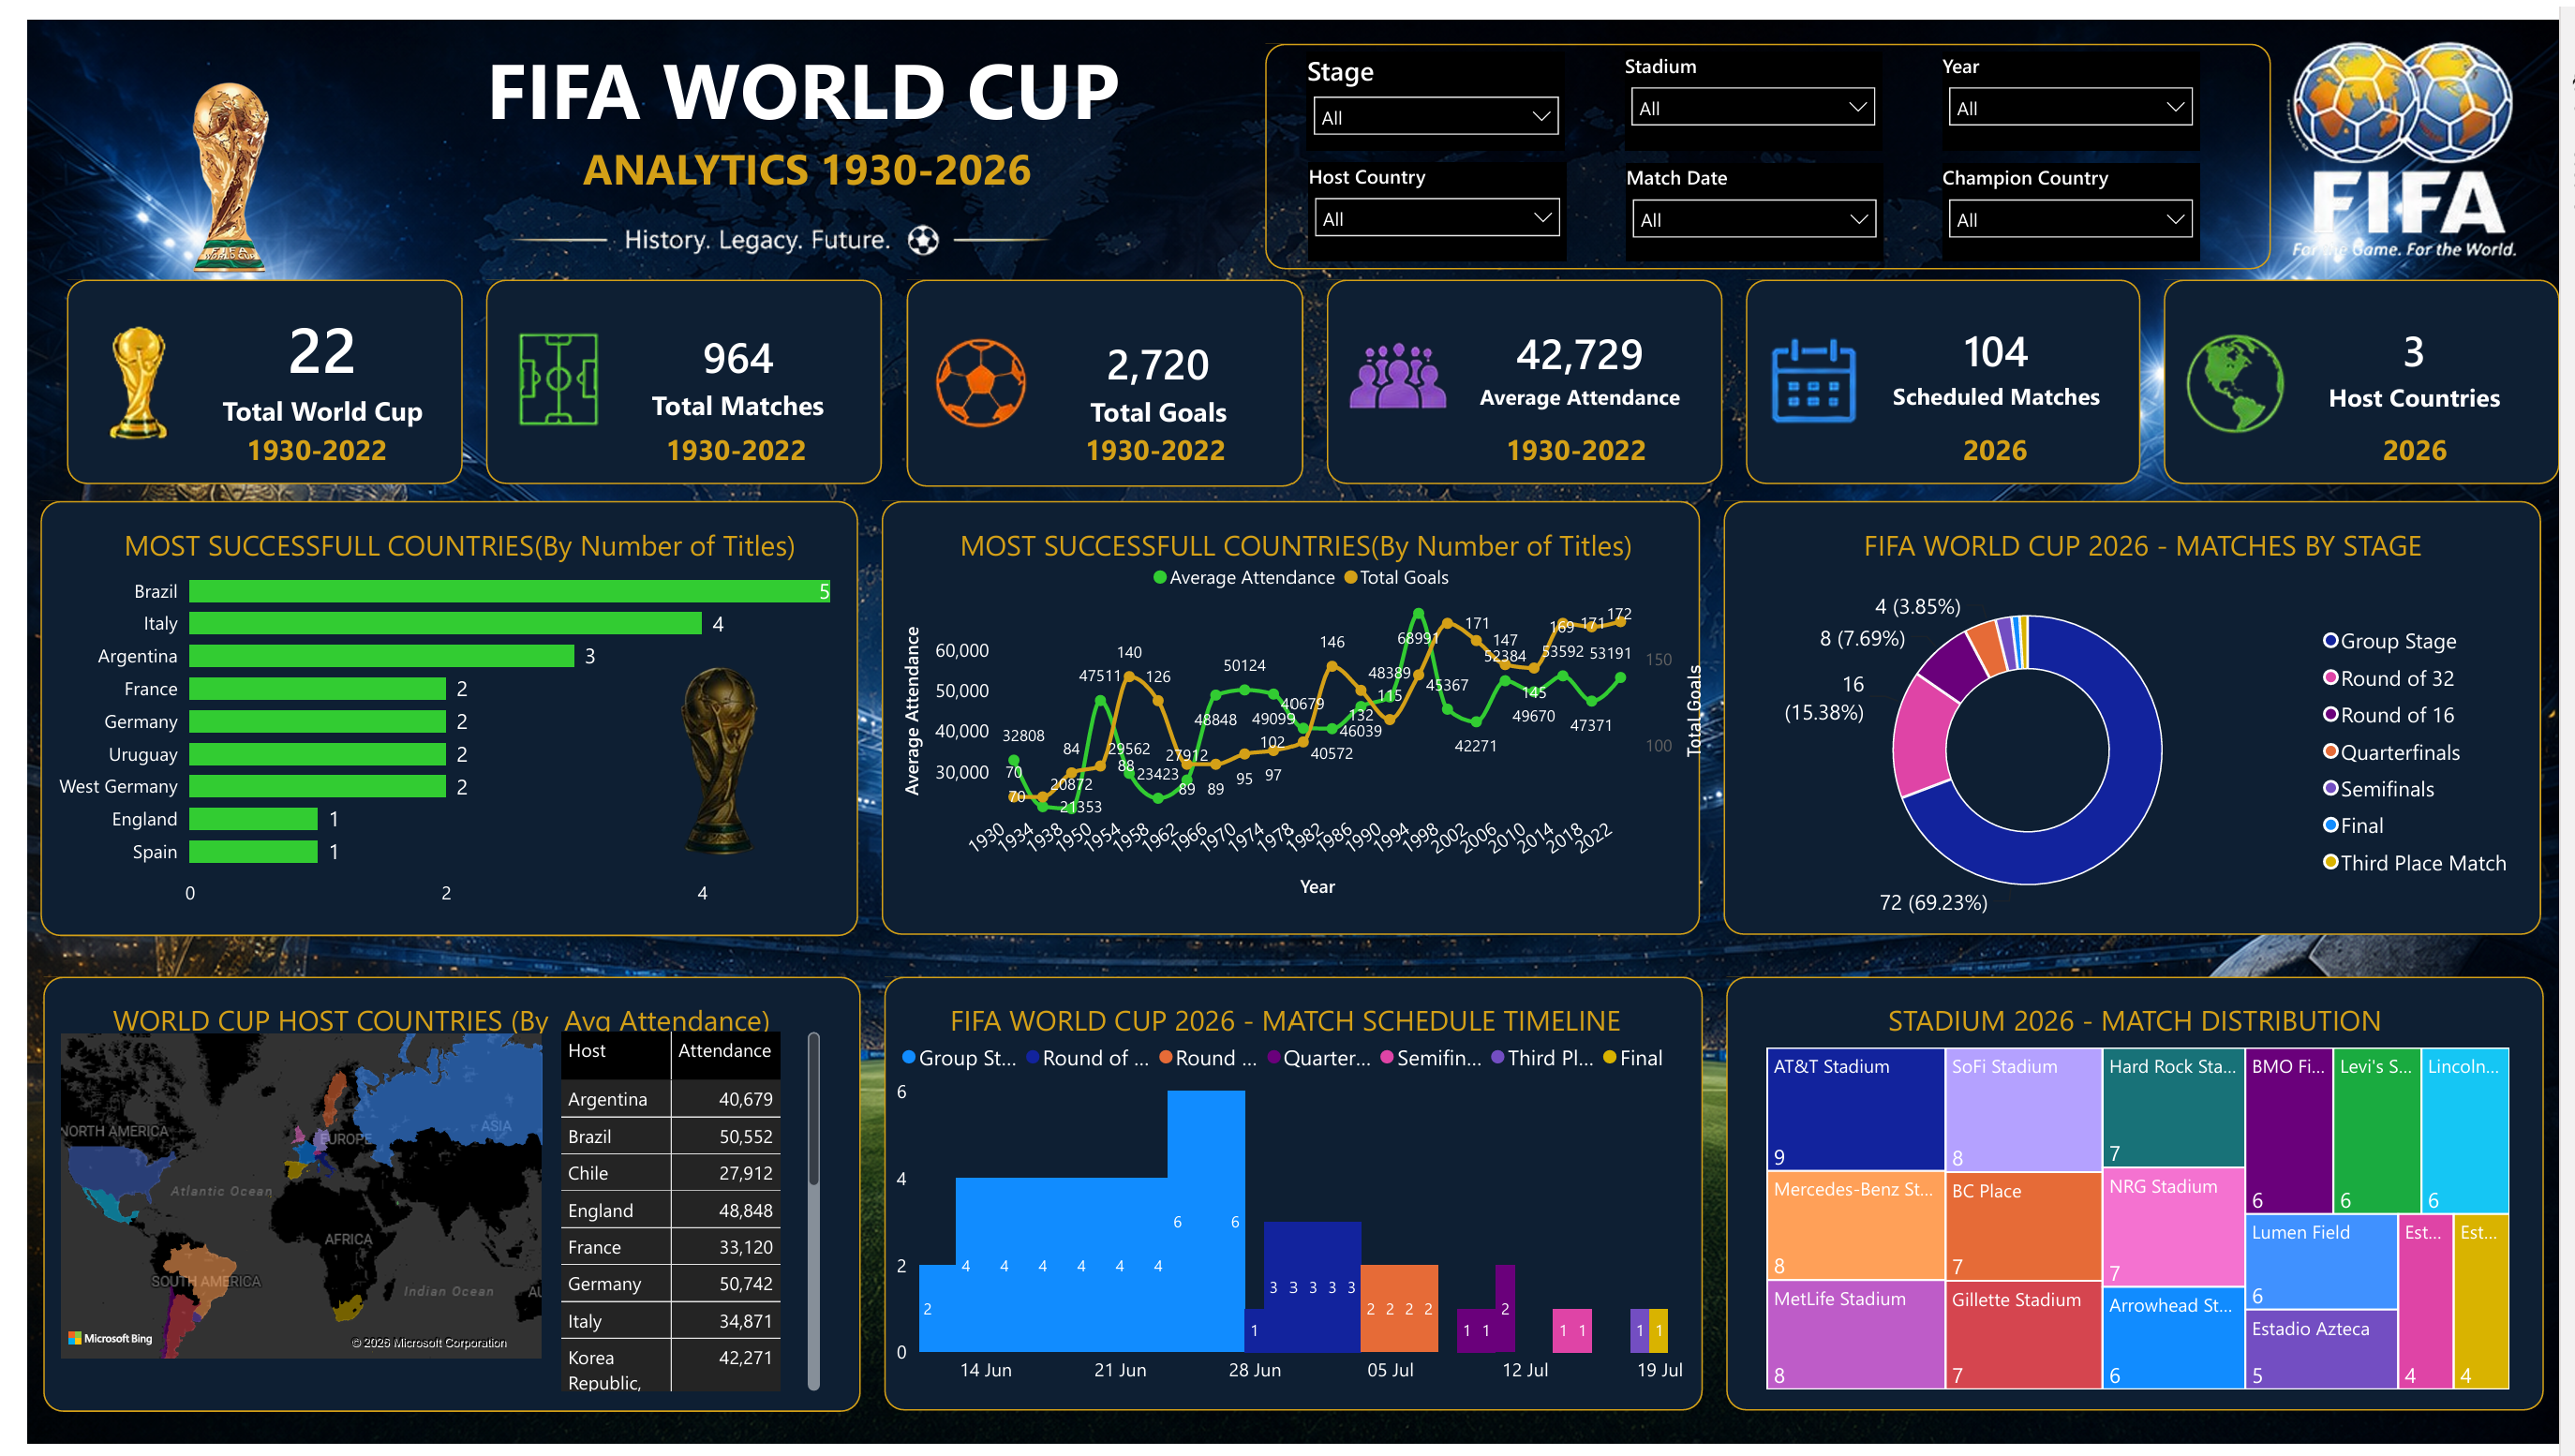

The dashboard page shown, as its layout file describes it:
{"tool":"powerbi","page":{"name":"Page 1","canvas":[1920,1080],"ordinal":0},"visuals":[{"type":"image","box":[13.4,22,283,195.1],"z":0},{"type":"image","box":[1673,12,246,171],"z":1000},{"type":"textbox","box":[285,12,606,86],"z":2000},{"type":"textbox","box":[331,90,521,59],"z":3000},{"type":"image","box":[343,150,463,38],"z":4000},{"type":"shape","box":[938.9,18.1,762,170.9],"z":5000},{"type":"shape","box":[30,197,300,155],"z":6000},{"type":"shape","box":[348.1,197,300.2,154.9],"z":7000},{"type":"shape","box":[666.5,197,300.2,156.8],"z":8000},{"type":"shape","box":[984.9,197,300.2,154.9],"z":9000},{"type":"shape","box":[1303.3,197,298.3,154.9],"z":10000},{"type":"shape","box":[1619.8,197,300.2,154.9],"z":11000},{"type":"image","box":[43,227.6,88,95],"z":12000},{"type":"image","box":[1312.1,227.6,88,95.6],"z":13000},{"type":"image","box":[994.8,227.6,88,93.7],"z":14000},{"type":"image","box":[677.5,227.6,88,95.6],"z":15000},{"type":"image","box":[360.3,227.6,88,95.6],"z":16000},{"type":"image","box":[1629.3,227.6,88,95.6],"z":17000},{"type":"cardVisual","fields":{"Data":["Measure.Total World Cup"]},"box":[130.9,216.2,186.4,93.2],"z":18000},{"type":"cardVisual","fields":{"Data":["Measure.Host Countries"]},"box":[1715.7,216.2,188.4,95.2],"z":19000},{"type":"cardVisual","fields":{"Data":["Measure.Scheduled Matches"]},"box":[1398.7,216.2,188.4,93.2],"z":20000},{"type":"cardVisual","fields":{"Data":["Measure.Average Attendance"]},"box":[1083.8,216.2,186.4,95.2],"z":21000},{"type":"cardVisual","fields":{"Data":["Measure.Total Goals"]},"box":[760.9,216.2,194.4,117],"z":22000},{"type":"cardVisual","fields":{"Data":["Measure.Total Matches"]},"box":[445.9,216.2,186.4,107.1],"z":23000},{"type":"textbox","box":[132,310.9,175,34],"z":24000},{"type":"textbox","box":[1086.2,311,175.5,33.9],"z":25000},{"type":"textbox","box":[768,311,175.5,33.9],"z":26000},{"type":"textbox","box":[449.8,311,175.5,33.9],"z":27000},{"type":"textbox","box":[1404.4,311,175.5,33.9],"z":28000},{"type":"textbox","box":[1722.6,311,175.5,33.9],"z":29000},{"type":"shape","box":[10,364.9,620,330],"z":30000},{"type":"shape","box":[648,364.9,620.1,329],"z":31000},{"type":"shape","box":[1286,364.9,620.1,329],"z":32000},{"type":"shape","box":[12,725.8,620,330],"z":33000},{"type":"shape","box":[650,725.8,620.1,329],"z":34000},{"type":"shape","box":[1288,725.8,620.1,329],"z":35000},{"type":"textbox","box":[43.9,382.8,568.2,43.9],"z":36000},{"type":"textbox","box":[677.9,382.8,568.2,43.9],"z":37000},{"type":"textbox","box":[1319.9,382.8,568.2,43.9],"z":38000},{"type":"textbox","box":[29.9,743.7,568.2,43.9],"z":39000},{"type":"textbox","box":[669.9,743.7,568.2,43.9],"z":40000},{"type":"textbox","box":[1313.9,743.7,568.2,43.9],"z":41000},{"type":"image","box":[443,486,160,160],"z":42000},{"type":"lineChart","fields":{"Category":["Historical Win.Year"],"Y":["Measure.Average Attendance"],"Y2":["Measure.Total Goals"]},"box":[649,393,638,289],"z":43000},{"type":"donutChart","fields":{"Category":["FIFA_WC2026_Schedule.Stage"],"Y":["Measure.Scheduled Matches"]},"box":[1276.6,404.1,629.3,301.6],"z":44000},{"type":"filledMap","fields":{"Category":["Historical Win.Host"],"Series":["Historical Win.AttendanceAvg"]},"box":[10,755,396,276],"z":45000},{"type":"tableEx","fields":{"Values":["Historical Win.Host","Measure.Average Attendance"]},"box":[388,754,229,302],"z":46000},{"type":"columnChart","fields":{"Category":["FIFA_WC2026_Schedule.Match_Date"],"Series":["Dim Stage.Stage"],"Y":["Measure.Scheduled Matches"]},"box":[635.3,755.9,637.3,299.6],"z":47000},{"type":"treemap","fields":{"Group":["FIFA_WC2026_Schedule.Stadium"],"Values":["Measure.Scheduled Matches"]},"box":[1302.8,766,595.1,289.5],"z":48000},{"type":"slicer","title":"Stage","fields":{"Values":["Dim Stage.Stage"]},"box":[970,24.1,196,75],"z":49000},{"type":"slicer","title":"Host Country","fields":{"Values":["FIFA_WC2026_Schedule.Host_Country"]},"box":[971,108,196,75],"z":50000},{"type":"slicer","title":"Stadium","fields":{"Values":["FIFA_WC2026_Schedule.Stadium"]},"box":[1211.3,24.1,195,74.4],"z":51000},{"type":"slicer","title":"Match Date","fields":{"Values":["FIFA_WC2026_Schedule.Match_Date"]},"box":[1211.8,108.6,195,74.4],"z":52000},{"type":"slicer","title":"Year","fields":{"Values":["Historical Win.Year"]},"box":[1451.6,24.1,195,74.4],"z":53000},{"type":"slicer","title":"Champion Country","fields":{"Values":["Historical Win.Champion"]},"box":[1451.6,108.6,195,74.4],"z":54000},{"type":"barChart","fields":{"Category":["Historical Win.Champion"],"Y":["CountNonNull(Historical Win.Champion)"]},"box":[0,393,629,300],"z":55000}]}

Visuals, with their boxes in screenshot pixels (x1, y1, x2, y2), scaled from the page's 1920x1080 canvas onto the 2575x1456 screenshot:
image: [18, 30, 397, 292]
image: [2243, 16, 2574, 246]
textbox: [382, 16, 1195, 132]
textbox: [444, 122, 1142, 201]
image: [460, 202, 1081, 254]
shape: [1259, 24, 2281, 255]
shape: [40, 265, 442, 474]
shape: [467, 265, 870, 474]
shape: [894, 265, 1297, 477]
shape: [1321, 265, 1723, 474]
shape: [1748, 265, 2148, 474]
shape: [2172, 265, 2574, 474]
image: [58, 306, 175, 435]
image: [1760, 306, 1878, 436]
image: [1334, 306, 1452, 433]
image: [909, 306, 1027, 436]
image: [484, 306, 602, 436]
image: [2185, 306, 2303, 436]
cardVisual - Measure.Total World Cup: [175, 291, 425, 417]
cardVisual - Measure.Host Countries: [2301, 291, 2553, 420]
cardVisual - Measure.Scheduled Matches: [1876, 291, 2129, 417]
cardVisual - Measure.Average Attendance: [1453, 291, 1704, 420]
cardVisual - Measure.Total Goals: [1020, 291, 1281, 449]
cardVisual - Measure.Total Matches: [598, 291, 848, 436]
textbox: [177, 419, 411, 465]
textbox: [1457, 419, 1692, 465]
textbox: [1030, 419, 1265, 465]
textbox: [603, 419, 839, 465]
textbox: [1883, 419, 2119, 465]
textbox: [2310, 419, 2546, 465]
shape: [13, 492, 845, 937]
shape: [869, 492, 1701, 935]
shape: [1725, 492, 2556, 935]
shape: [16, 978, 848, 1423]
shape: [871, 978, 1704, 1422]
shape: [1727, 978, 2559, 1422]
textbox: [59, 516, 821, 575]
textbox: [909, 516, 1671, 575]
textbox: [1770, 516, 2532, 575]
textbox: [40, 1003, 802, 1062]
textbox: [899, 1003, 1660, 1062]
textbox: [1763, 1003, 2524, 1062]
image: [594, 655, 809, 871]
lineChart - Historical Win.Year x Measure.Average Attendance: [871, 529, 1726, 919]
donutChart - FIFA_WC2026_Schedule.Stage x Measure.Scheduled Matches: [1712, 544, 2556, 951]
filledMap - Historical Win.Host x Historical Win.AttendanceAvg: [13, 1018, 544, 1389]
tableEx - Historical Win.Host x Measure.Average Attendance: [520, 1017, 827, 1423]
columnChart - FIFA_WC2026_Schedule.Match_Date x Dim Stage.Stage: [852, 1019, 1706, 1423]
treemap - FIFA_WC2026_Schedule.Stadium x Measure.Scheduled Matches: [1748, 1033, 2545, 1423]
"Stage" slicer: [1301, 33, 1564, 134]
"Host Country" slicer: [1302, 145, 1565, 246]
"Stadium" slicer: [1625, 33, 1886, 133]
"Match Date" slicer: [1625, 146, 1886, 246]
"Year" slicer: [1947, 33, 2209, 133]
"Champion Country" slicer: [1947, 146, 2209, 246]
barChart - Historical Win.Champion x CountNonNull(Historical Win.Champion): [0, 529, 843, 934]
